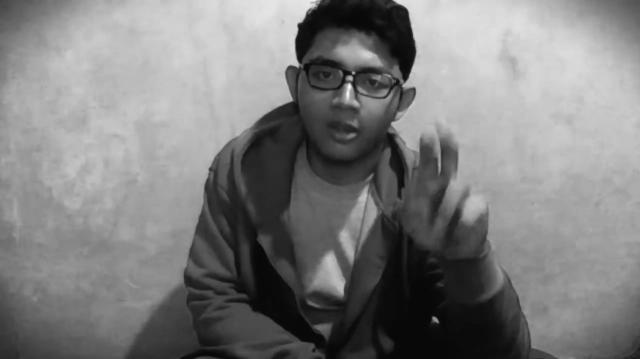U: (393, 115, 492, 260)
